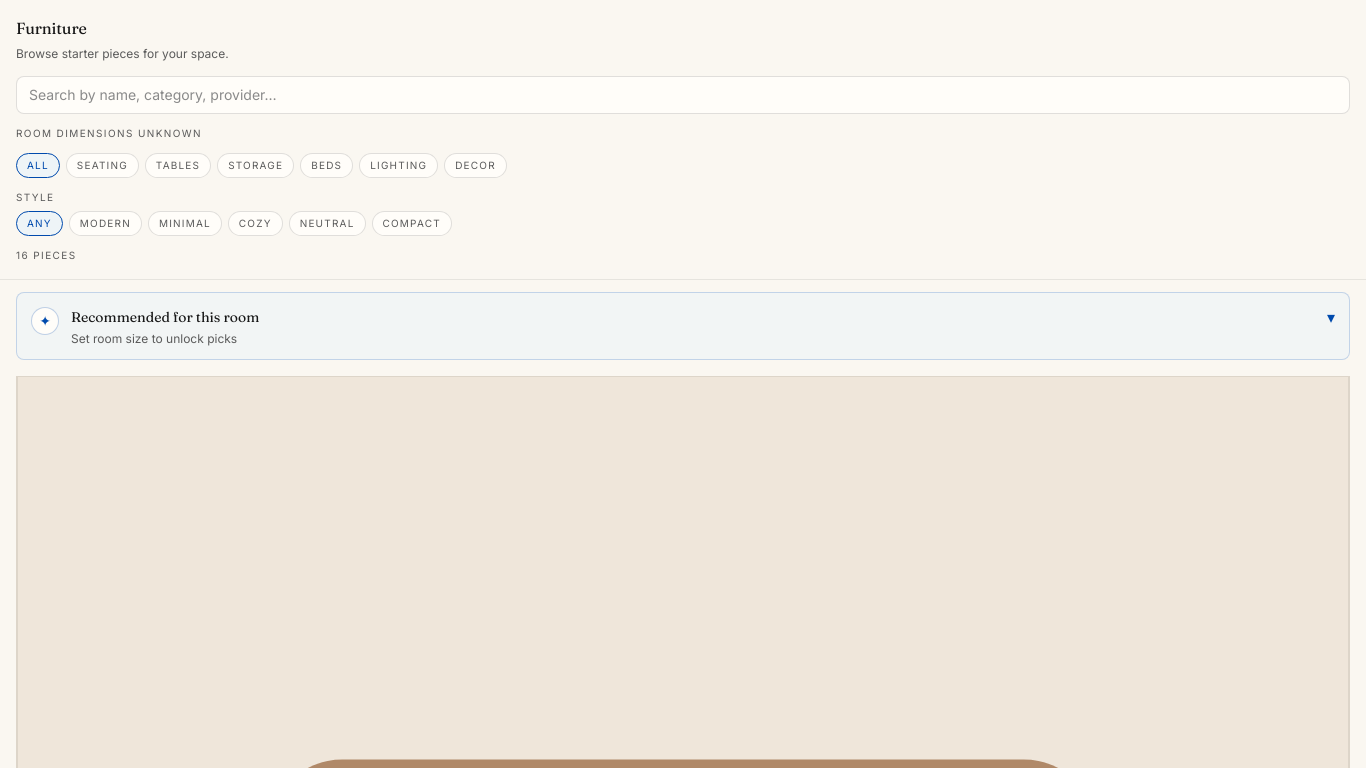
FurnitureCatalogPanel › filters by category and search together
This screenshot has width=1366, height=768.
Step 1. Click the button "Tables" → [178, 165], box [145, 152, 211, 178]
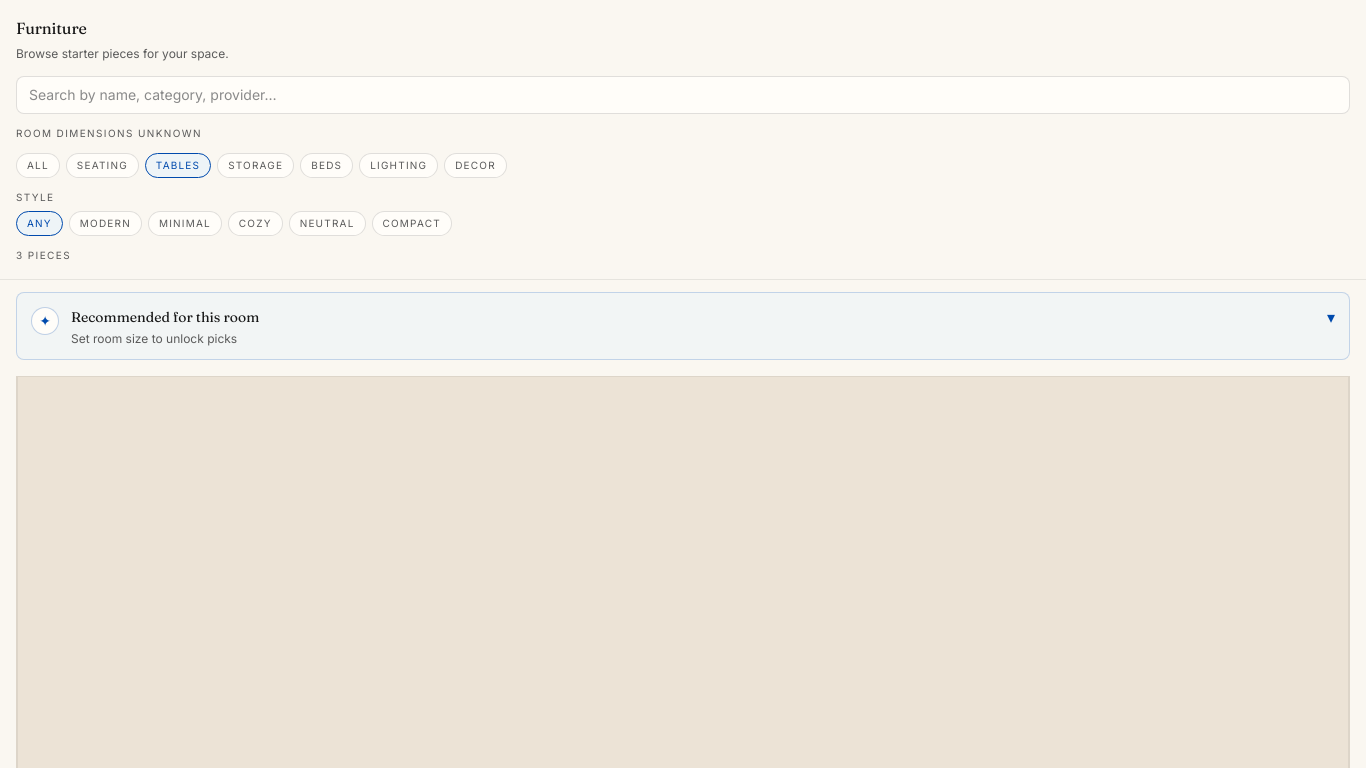
Step 2. Type "coffee" into the search field named "Search furniture" → [683, 94], box [16, 76, 1350, 114]
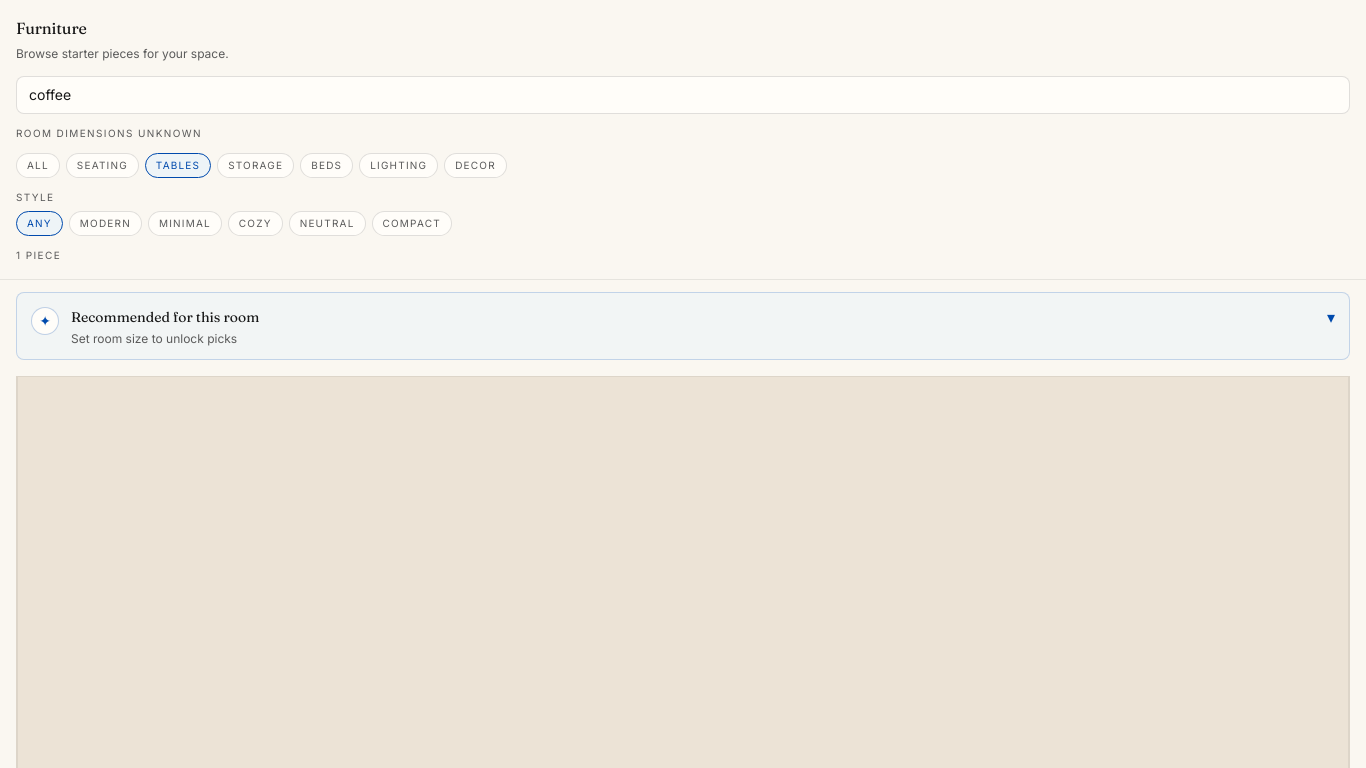
Expected: the text "1 piece" is shown, [16, 248, 61, 260]
